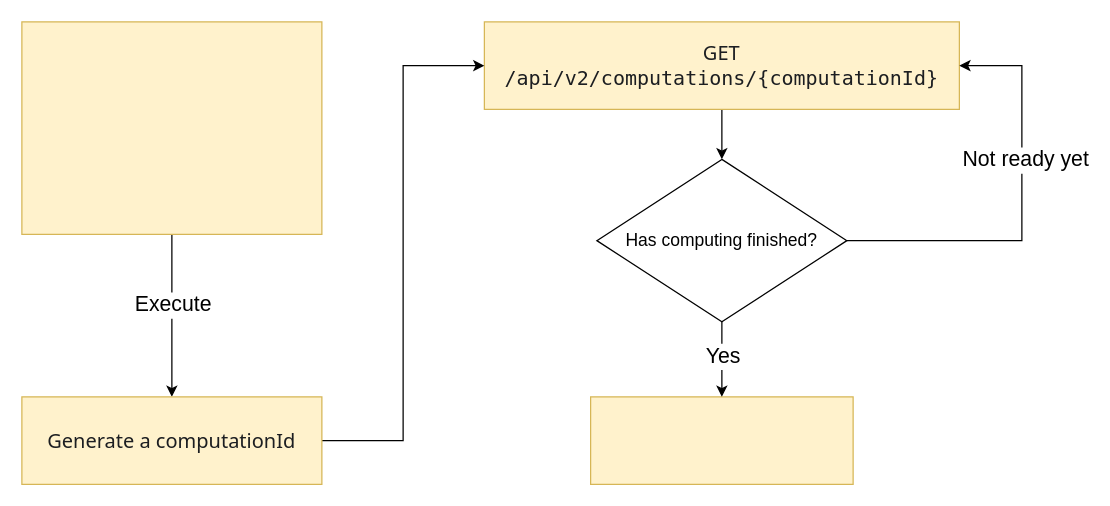
The diagram is 1110 pixels wide and 506 high, and some of its shapes have lost their labels. Each missing label, with the box of its shape:
POST /api/v2/computations Raw json: { ... }: (21, 21, 322, 234)
Return metric evidences: (589, 396, 853, 484)
